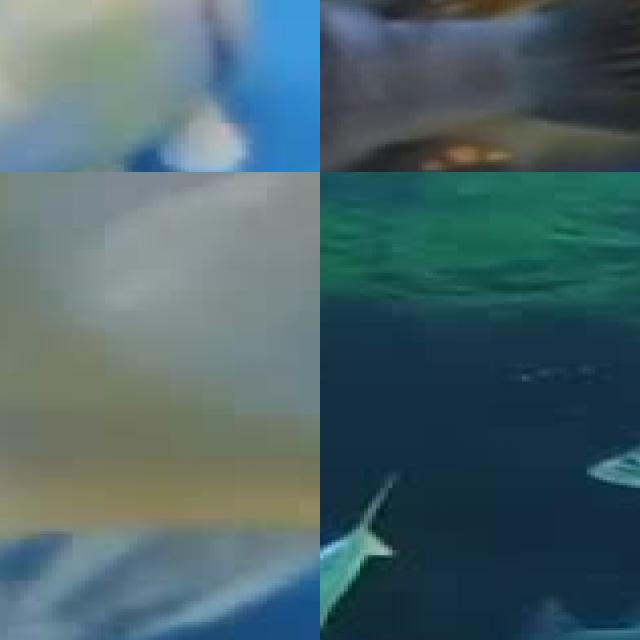fish: (0, 0, 320, 172), (570, 340, 640, 511)
